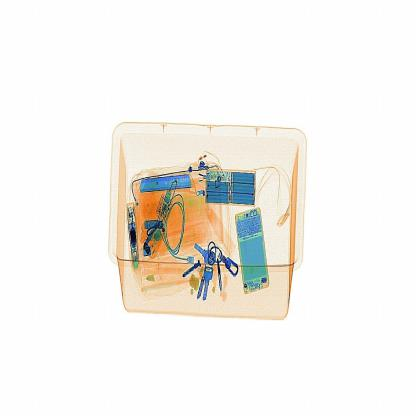pliers: (127, 164, 198, 205)
